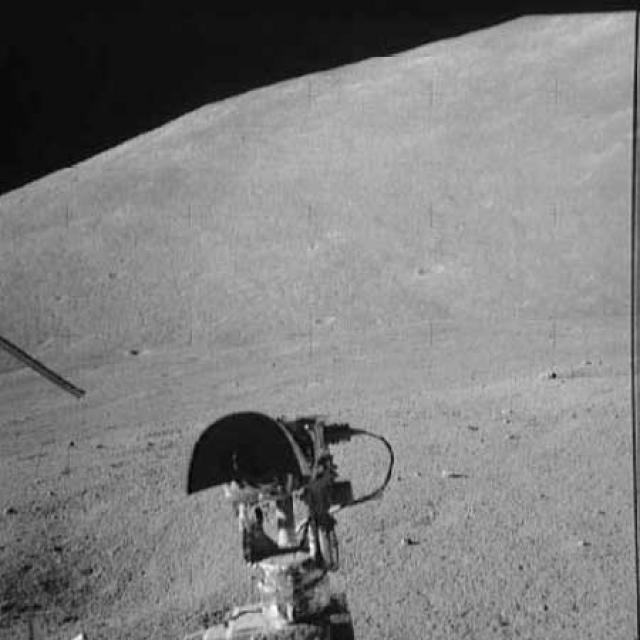artifact: (168, 396, 407, 638), (0, 329, 89, 404)
crater: (532, 353, 638, 387)
